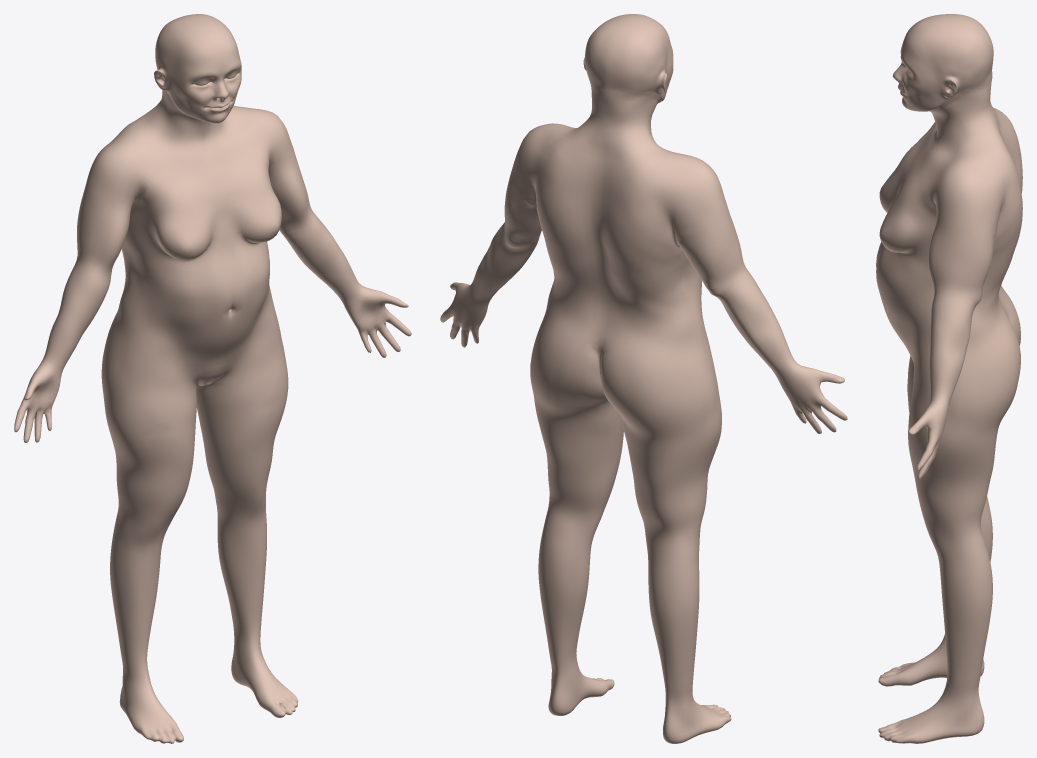
File: VHF_Skin_Low.glb
The picture shows the model from 3 angles, left to right: view 1: azimuth 30°, elevation 25°; view 2: azimuth 150°, elevation 25°; view 3: azimuth 270°, elevation 25°; orthographic projection. The views are drawn at different scales.
Parts seen in each view (by area): view 1: VHF_Skin_Low; view 2: VHF_Skin_Low; view 3: VHF_Skin_Low.
Part boxes in pixels (bbox=[...]): VHF_Skin_Low: bbox=[14, 14, 411, 743]; VHF_Skin_Low: bbox=[440, 14, 847, 743]; VHF_Skin_Low: bbox=[876, 14, 1022, 743].
Bounding box in the file's own units: 12 × 19.83 × 3.81.
